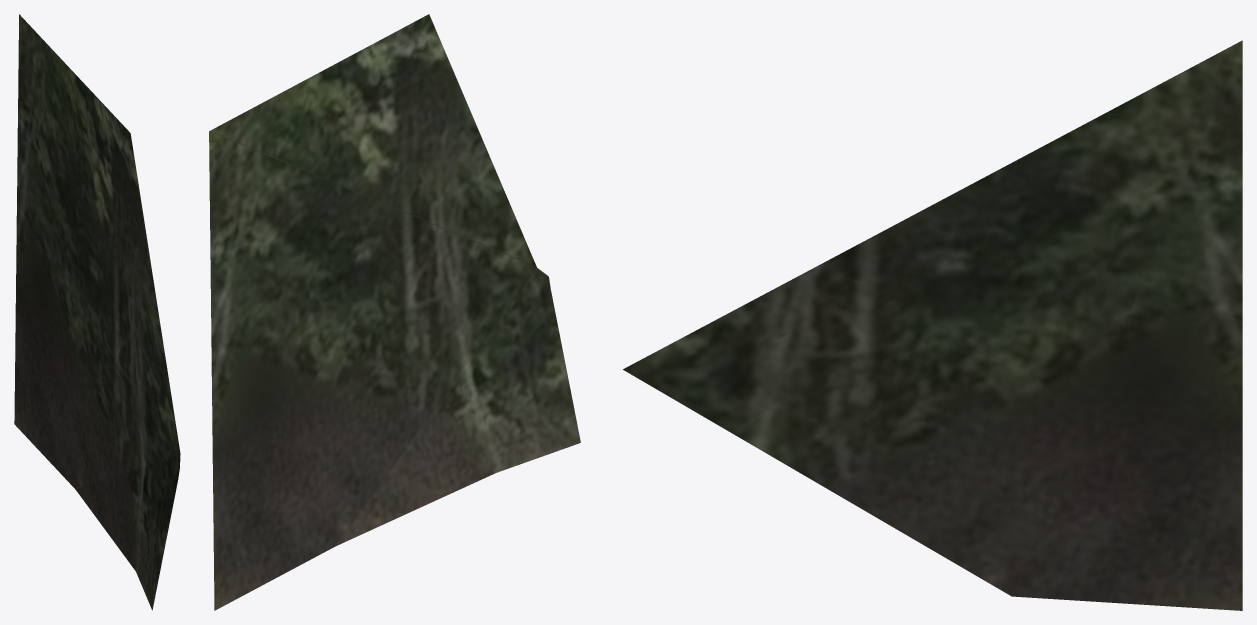
3 views of the same model, side by side, from view 1: azimuth 30°, elevation 25°; view 2: azimuth 150°, elevation 25°; view 3: azimuth 270°, elevation 25° (orthographic). The views are drawn at different scales.
Bounding box in the file's own units: 1.39 × 5.9 × 5.9.
Materials: 2 (2 with a texture image).
